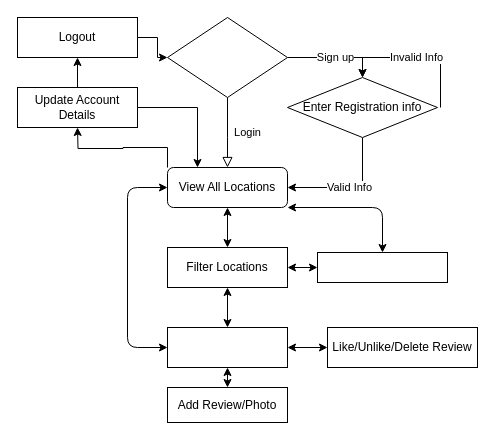
Image size: 495x440. Some labels were removed from this diagram. Each missing label, with the centre of its shape:
"Favourite/Unfavourite Locations" goes at (x=382, y=267).
"Login or Sign up" goes at (x=227, y=57).
"View Reviews/Photos" goes at (x=227, y=347).
